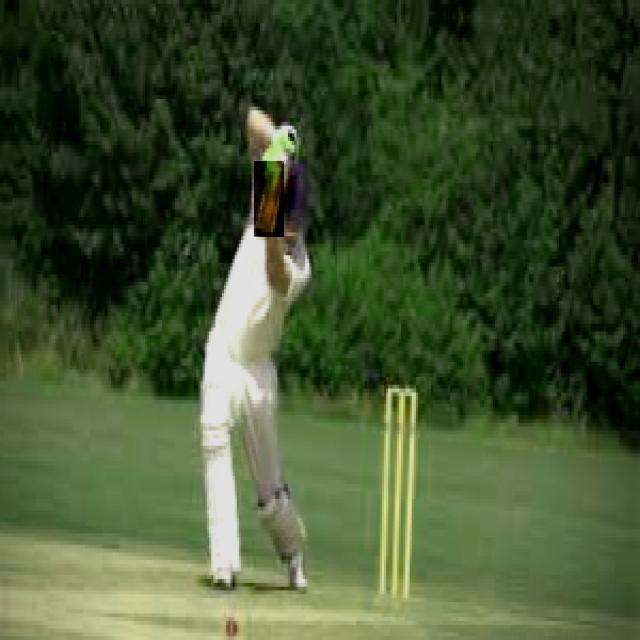bat: (250, 164, 287, 235)
toe: (250, 224, 281, 238)
